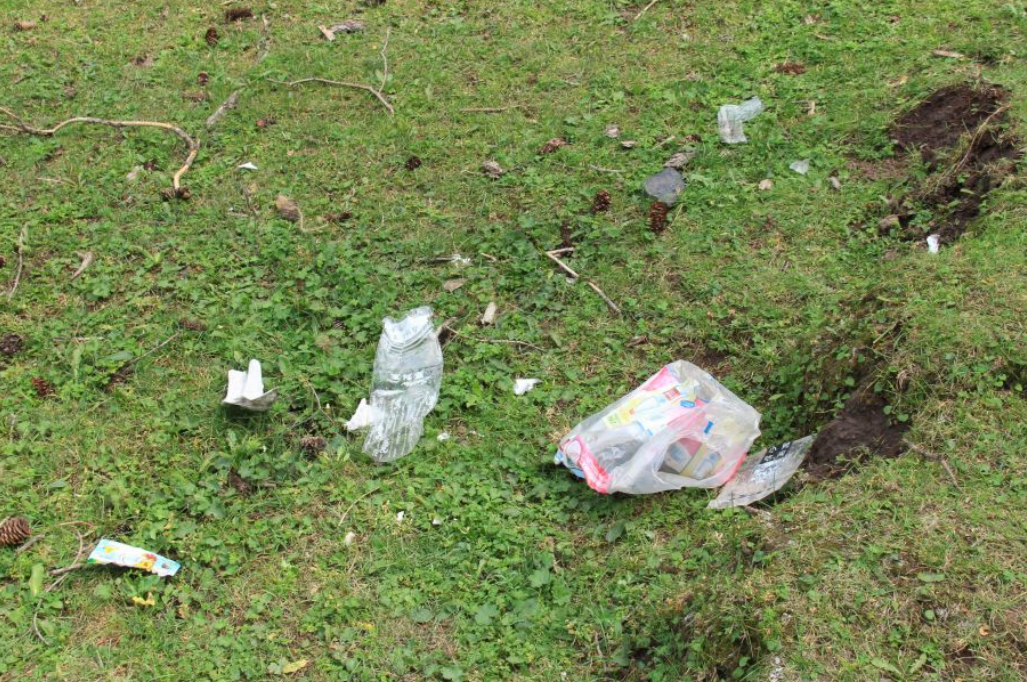garbage: (542, 359, 816, 514), (361, 296, 455, 469), (69, 520, 197, 591), (222, 359, 301, 421), (646, 162, 699, 228), (704, 91, 759, 141)
